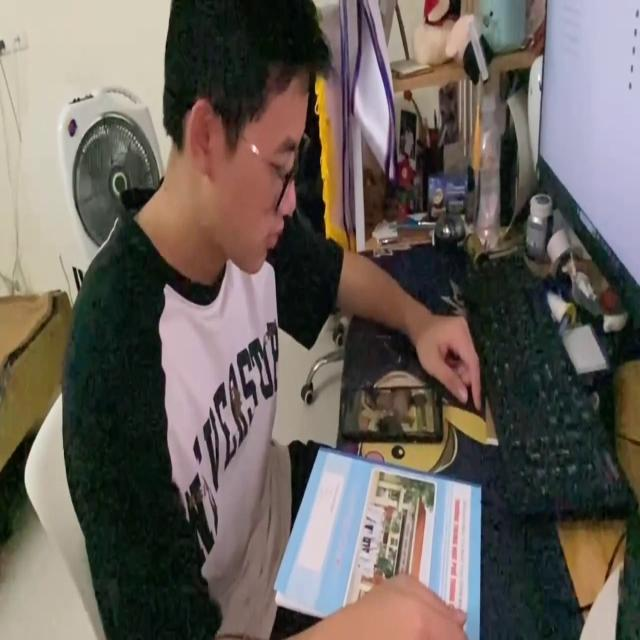book: (273, 442, 485, 640)
laptop: (534, 0, 640, 326)
phone: (338, 374, 442, 441)
student: (61, 0, 483, 640)
